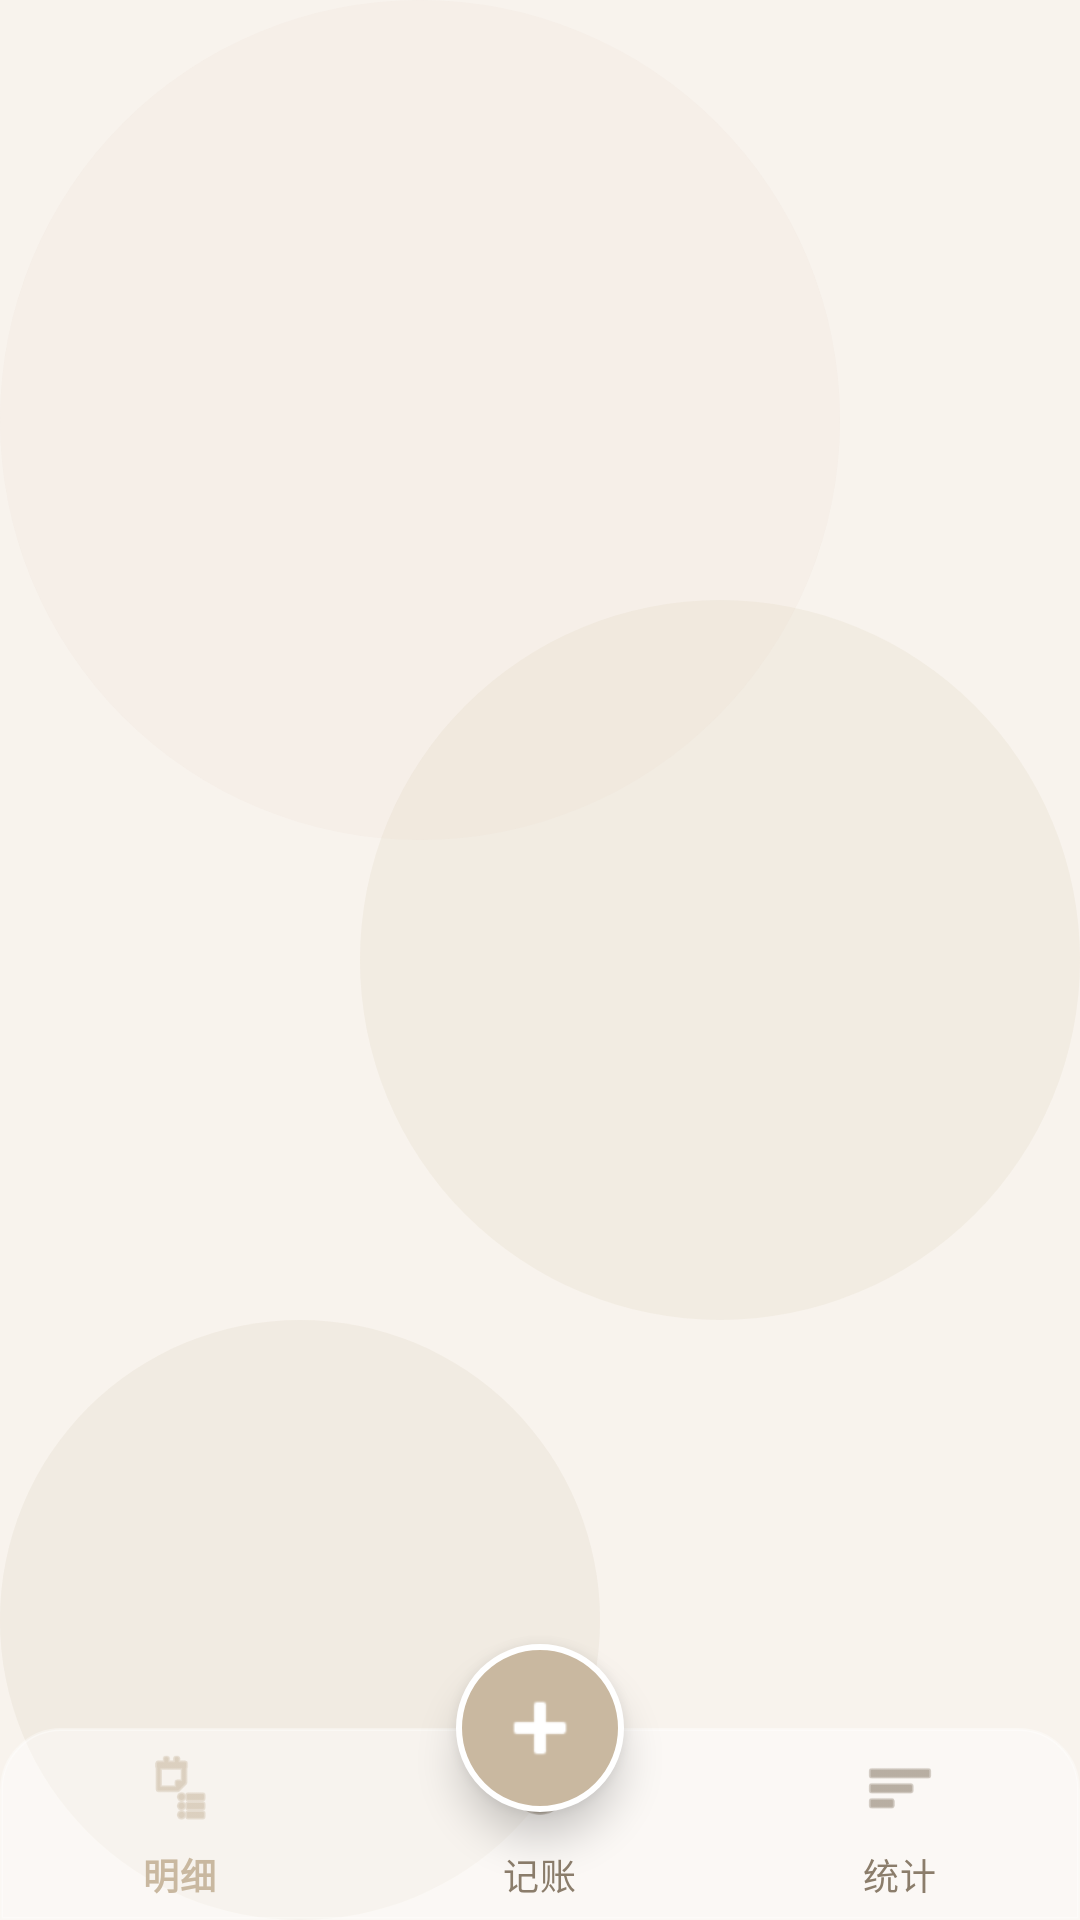

Icons on this 1080px x 1920px Android screen, each with its box as [x1=x1, y1=y1, x2=x2, y2=y2]:
add: [x1=456, y1=1644, x2=624, y2=1812]
